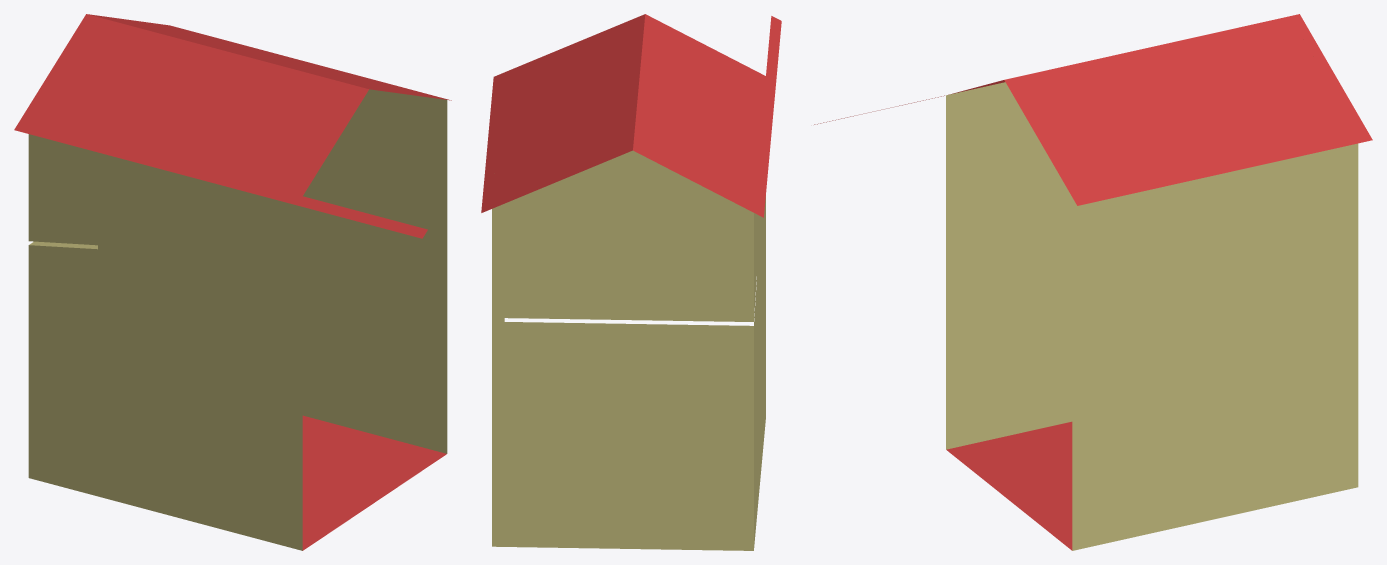
3 renders of one model, left to right at view 1: azimuth 30°, elevation 25°; view 2: azimuth 150°, elevation 25°; view 3: azimuth 270°, elevation 25°, orthographic. The views are drawn at different scales.
Size of the model in its own units: 9.67 by 13.14 by 10.73.
